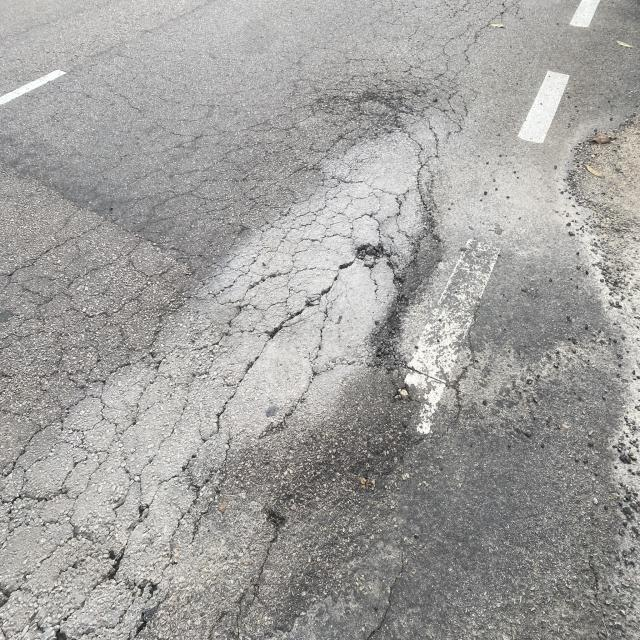pothole: (313, 136, 474, 582)
